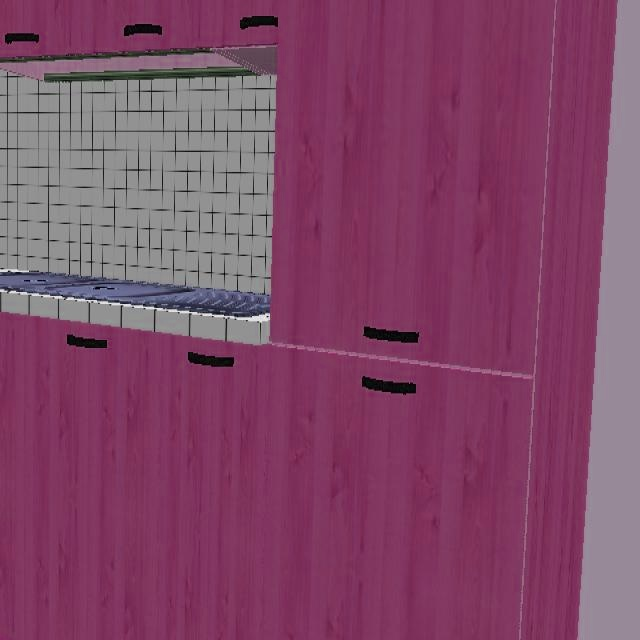countertop: (0, 295, 268, 343)
sink: (0, 273, 269, 319)
